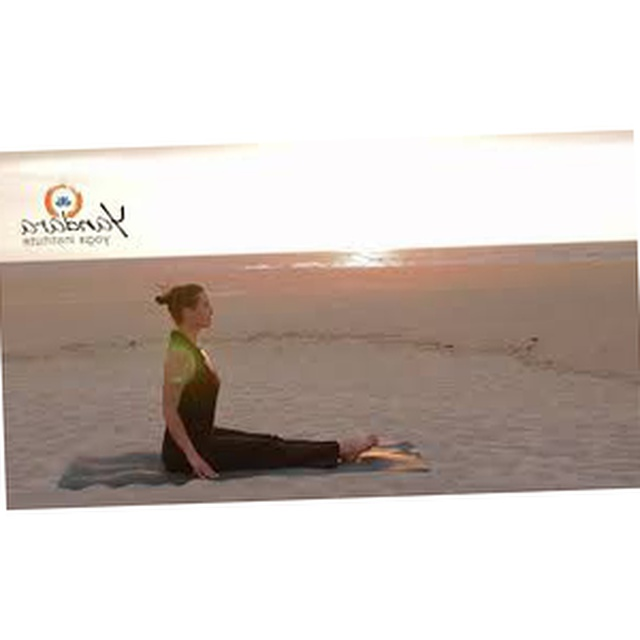Staff_Pose: (153, 283, 379, 480)
